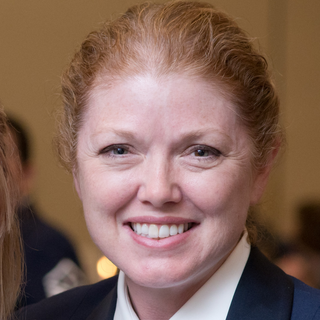eye: (173, 141, 227, 163), (93, 139, 143, 161)
